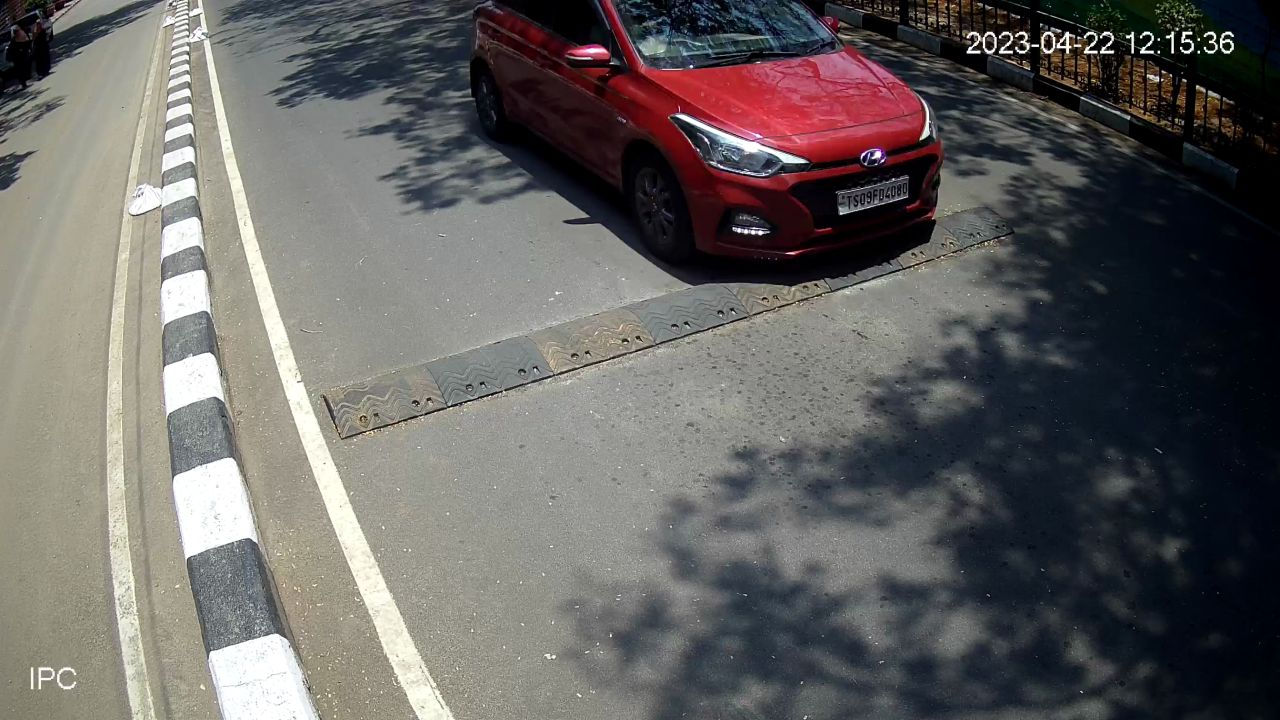license_plate: (831, 171, 913, 224)
